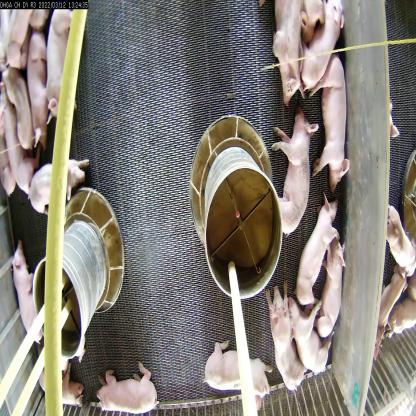Pig: (256, 275, 306, 395), (314, 46, 354, 186), (300, 196, 339, 308), (2, 80, 39, 194), (277, 104, 310, 228), (288, 292, 334, 376), (303, 0, 344, 93), (47, 0, 76, 130), (10, 238, 41, 358), (29, 16, 53, 153), (321, 240, 347, 348), (93, 367, 159, 408), (383, 203, 415, 277)
